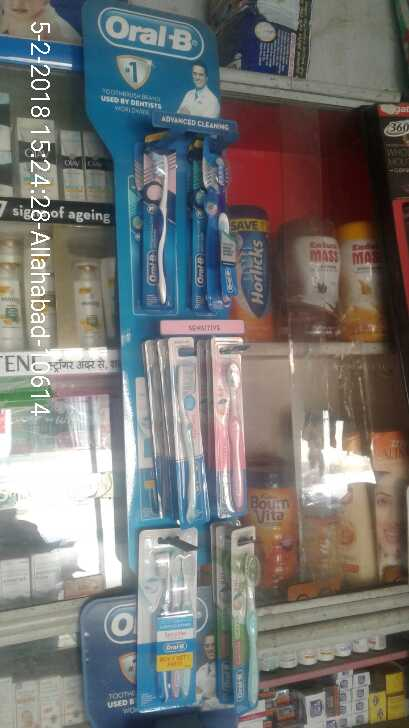oralb: (138, 532, 202, 710), (166, 334, 207, 531), (207, 339, 249, 521), (198, 133, 235, 312), (145, 134, 182, 310), (234, 529, 265, 711)
